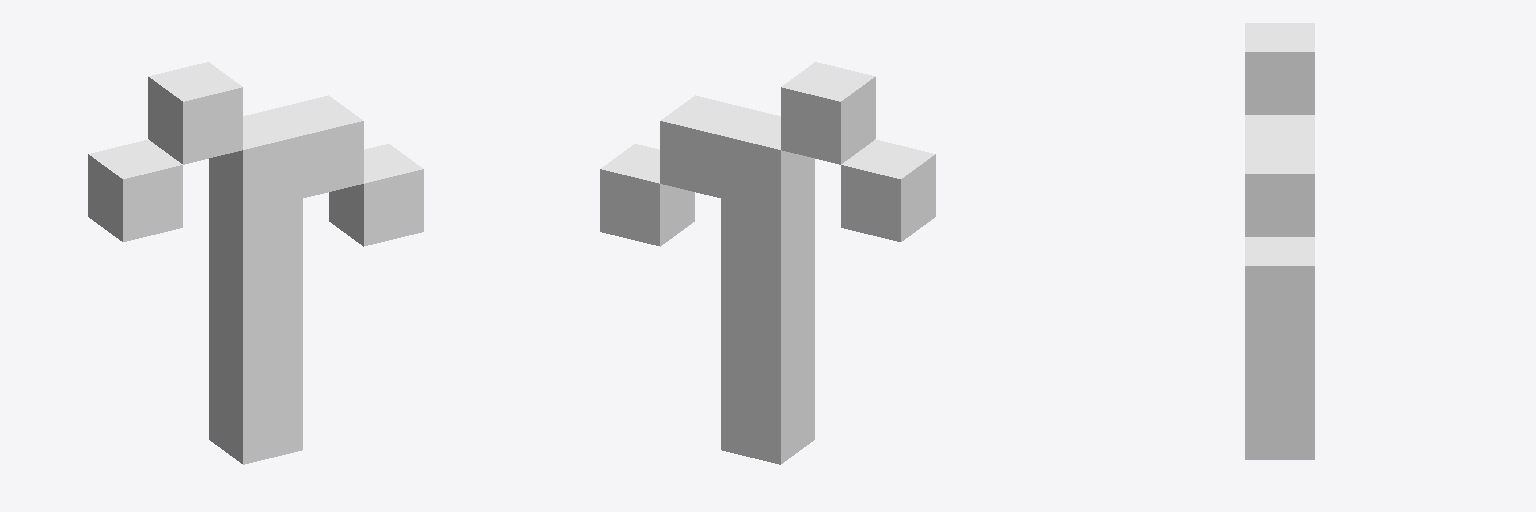
Rendered from droopy_yellow.obj.
3 renders of one model, left to right at view 1: azimuth 30°, elevation 25°; view 2: azimuth 150°, elevation 25°; view 3: azimuth 270°, elevation 25°, orthographic.
Visible parts, largest first — view 1: object 1; view 2: object 1; view 3: object 1.
Boxes of the visible parts, x1=… form: object 1: x1=88, y1=62, x2=423, y2=464; object 1: x1=600, y1=62, x2=935, y2=464; object 1: x1=1245, y1=23, x2=1314, y2=459.
Bounding box in the file's own units: 0.5 × 0.6 × 0.1.